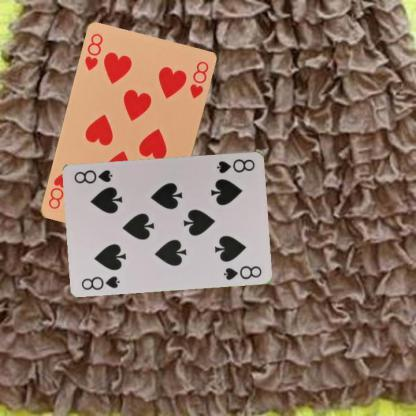8h: (82, 31, 105, 73)
8s: (214, 156, 256, 174), (79, 273, 121, 291)
